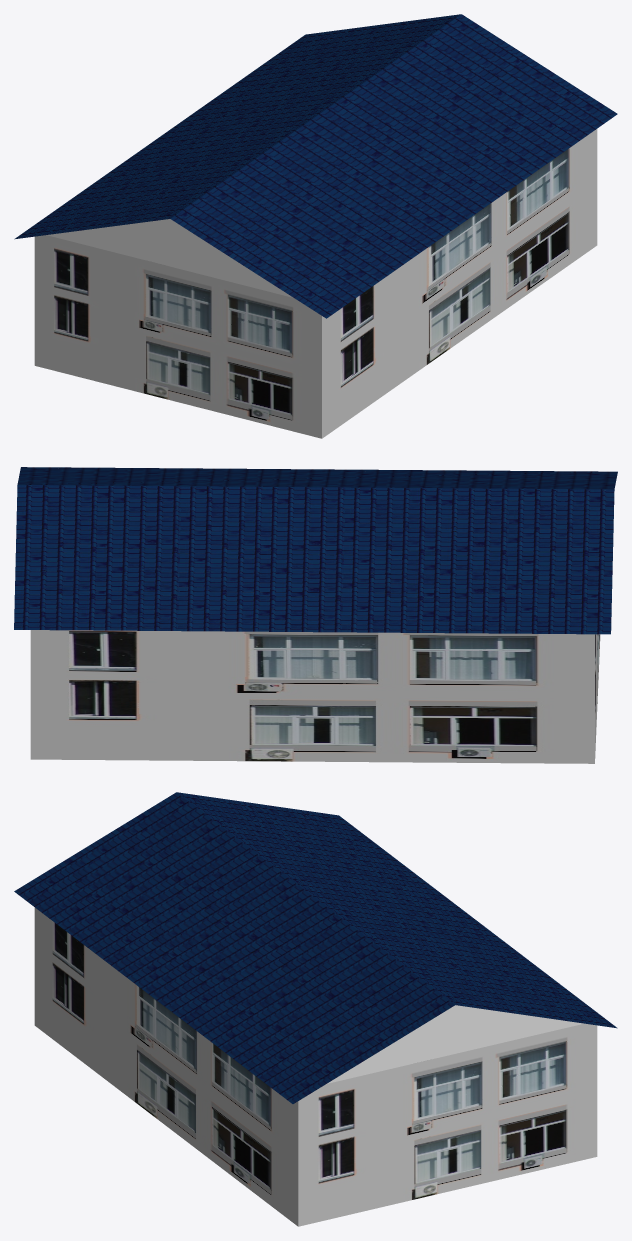
The picture shows the model from 3 angles, top to bottom: view 1: azimuth 30°, elevation 25°; view 2: azimuth 150°, elevation 25°; view 3: azimuth 270°, elevation 25°; orthographic projection. The views are drawn at different scales.
Parts seen in each view (by area): view 1: CityEngineMaterial_6_m, CityEngineMaterial_9_m, CityEngineMaterial_3_m; view 2: CityEngineMaterial_6_m, CityEngineMaterial_9_m; view 3: CityEngineMaterial_6_m, CityEngineMaterial_9_m, CityEngineMaterial_3_m.
Part boxes in pixels (x1,y1,x2,y2): CityEngineMaterial_6_m: (14, 14, 617, 318); CityEngineMaterial_9_m: (34, 129, 597, 438); CityEngineMaterial_3_m: (47, 219, 293, 297); CityEngineMaterial_6_m: (14, 467, 617, 634); CityEngineMaterial_9_m: (30, 630, 600, 763); CityEngineMaterial_6_m: (14, 792, 617, 1103); CityEngineMaterial_9_m: (34, 907, 597, 1226); CityEngineMaterial_3_m: (327, 1005, 583, 1083).
Size of the model in its own units: 43.21 by 13.42 by 38.17.
